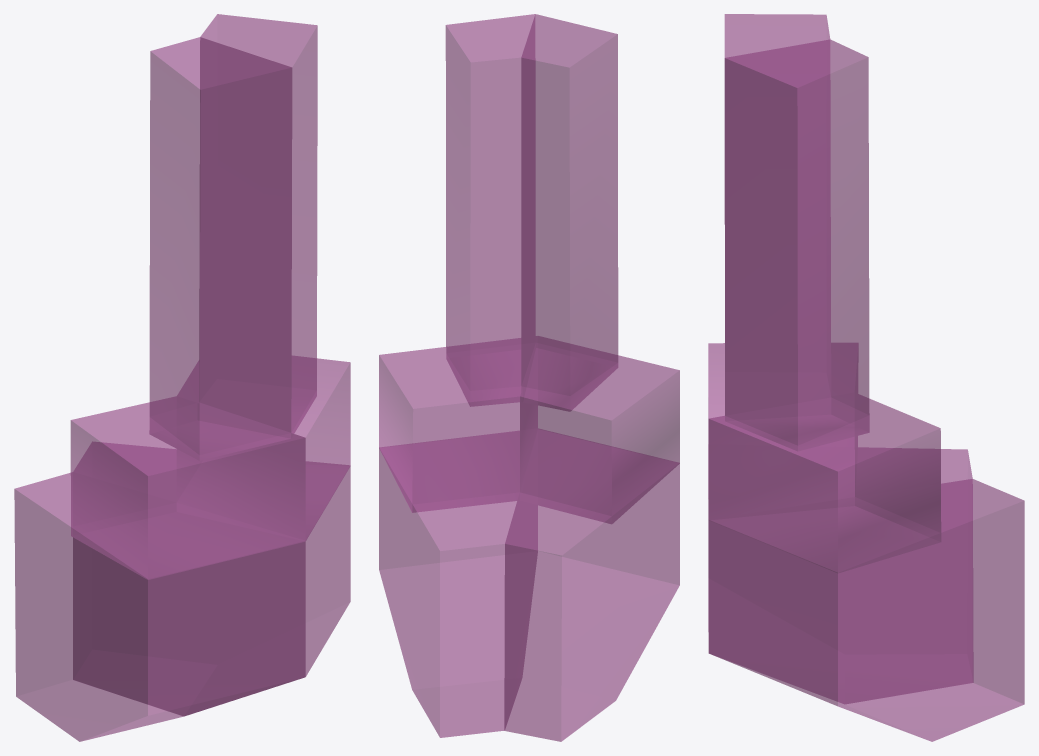
Rendered from SM_Bld_Railing_Pillar_45_Corner_Inner_01_Collision.fbx.
The picture shows the model from 3 angles, left to right: view 1: azimuth 30°, elevation 25°; view 2: azimuth 150°, elevation 25°; view 3: azimuth 270°, elevation 25°; orthographic projection. The views are drawn at different scales.
Parts seen in each view (by area): view 1: SM_Bld_Railing_Pillar_45_Corner_Inner_01_Collision; view 2: SM_Bld_Railing_Pillar_45_Corner_Inner_01_Collision; view 3: SM_Bld_Railing_Pillar_45_Corner_Inner_01_Collision.
Boxes of the visible parts, <box> form: SM_Bld_Railing_Pillar_45_Corner_Inner_01_Collision: <box>14,14,350,741</box>; SM_Bld_Railing_Pillar_45_Corner_Inner_01_Collision: <box>379,14,679,741</box>; SM_Bld_Railing_Pillar_45_Corner_Inner_01_Collision: <box>708,14,1024,741</box>.
Bounding box in the file's own units: 65.88 × 159 × 68.2.
